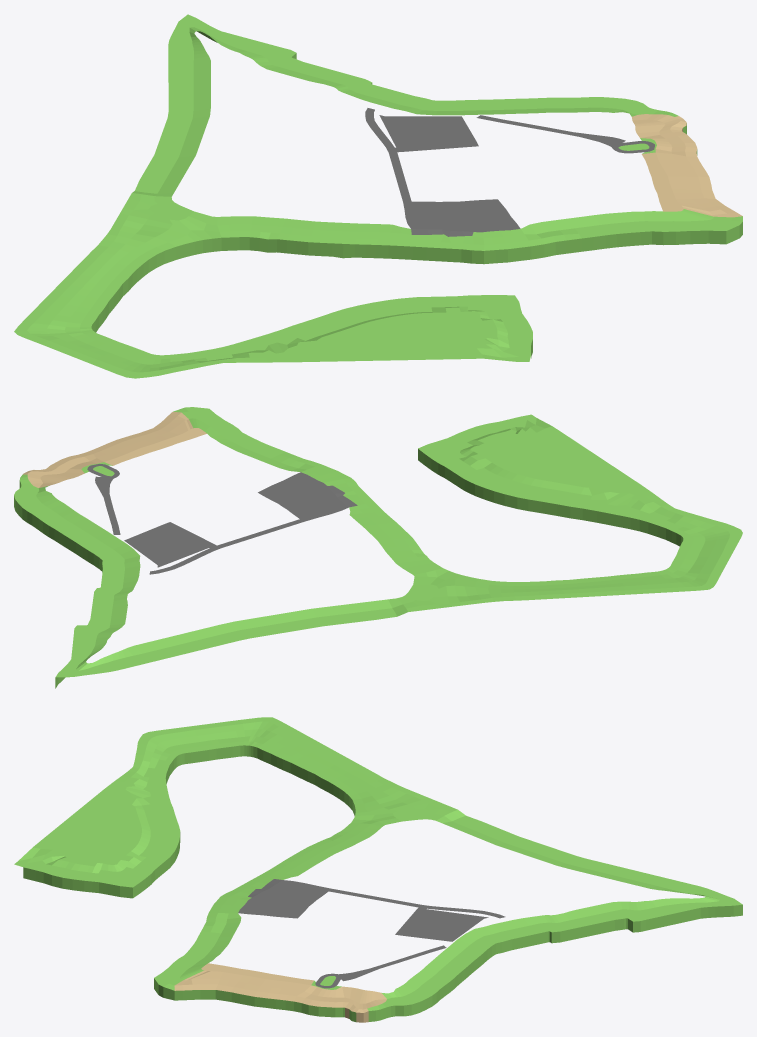
Rendered from harbor_ground.glb.
The picture shows the model from 3 angles, top to bottom: view 1: azimuth 30°, elevation 25°; view 2: azimuth 150°, elevation 25°; view 3: azimuth 270°, elevation 25°; orthographic projection. The views are drawn at different scales.
Parts seen in each view (by area): view 1: Ground-col; view 2: Ground-col; view 3: Ground-col.
Part boxes in pixels (x1=…): Ground-col: x1=14, y1=14, x2=742, y2=378; Ground-col: x1=14, y1=407, x2=742, y2=688; Ground-col: x1=14, y1=717, x2=742, y2=1022.
Size of the model in its own units: 766 by 17.92 by 808.
Materials: 1 (1 with a texture image).
